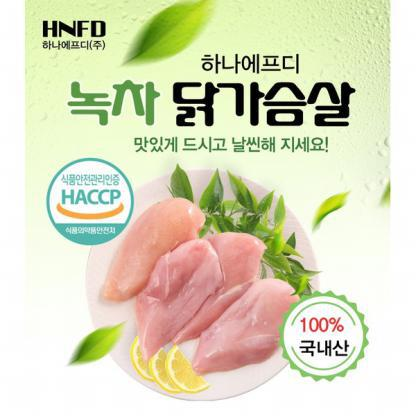chicken: (104, 189, 203, 301), (130, 234, 222, 350), (190, 278, 304, 360)
